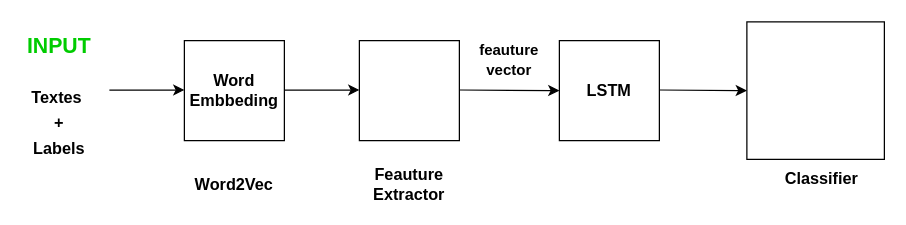
Some shapes in this 906 by 225 pixel diagram are drawn without their labels. Each missing label, with the centre of its shape:
CNN: CONV1D + Pooling Layer: point (408, 90)
DENSE + Sigmoid/Softmax: point (815, 90)
